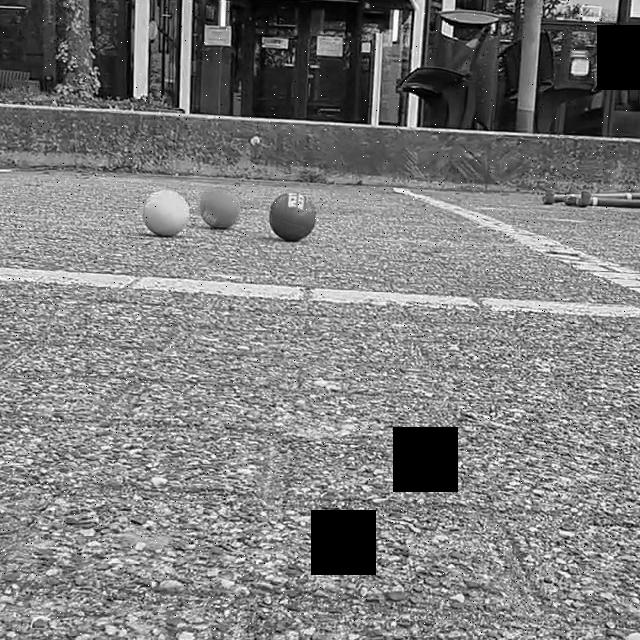ball: (139, 187, 193, 241), (264, 189, 319, 242), (198, 184, 244, 233)
